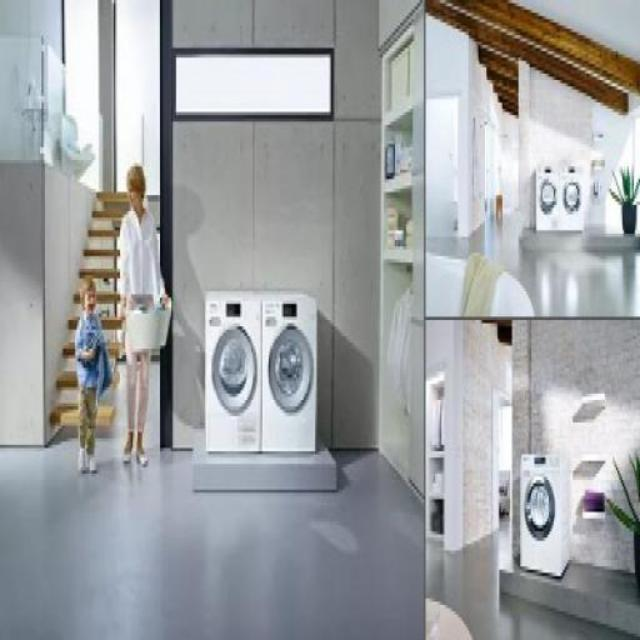Washing-Machine: (206, 284, 260, 454), (262, 293, 316, 451), (522, 449, 570, 575), (537, 162, 559, 230), (561, 164, 583, 224)
